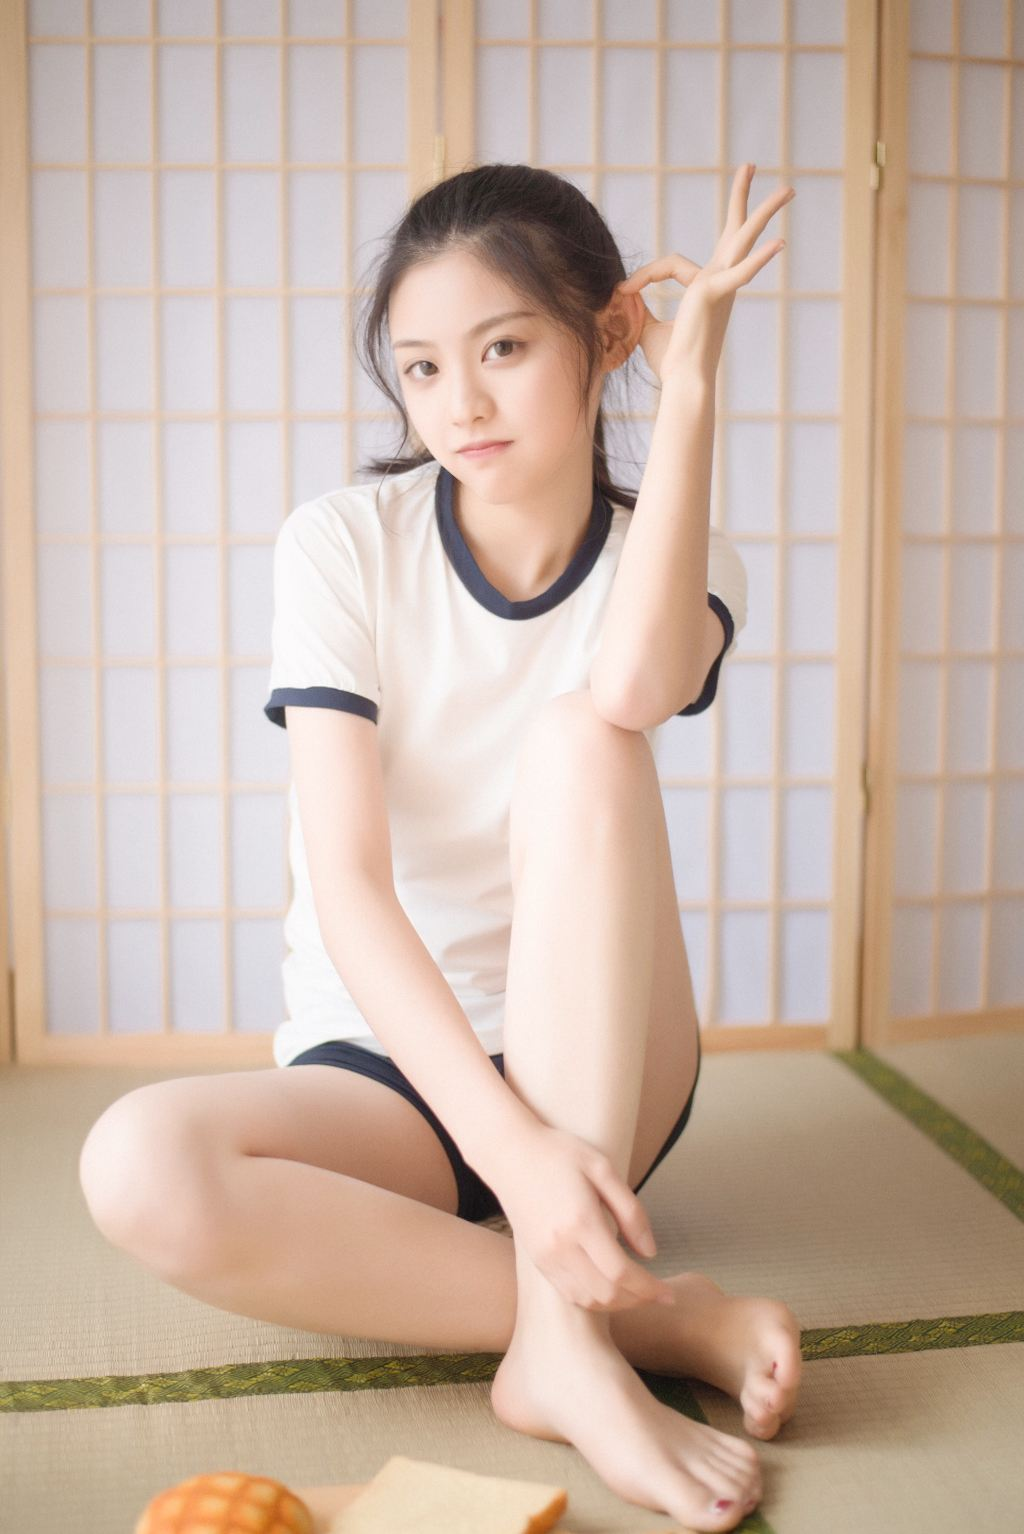person: (212, 141, 768, 1246)
